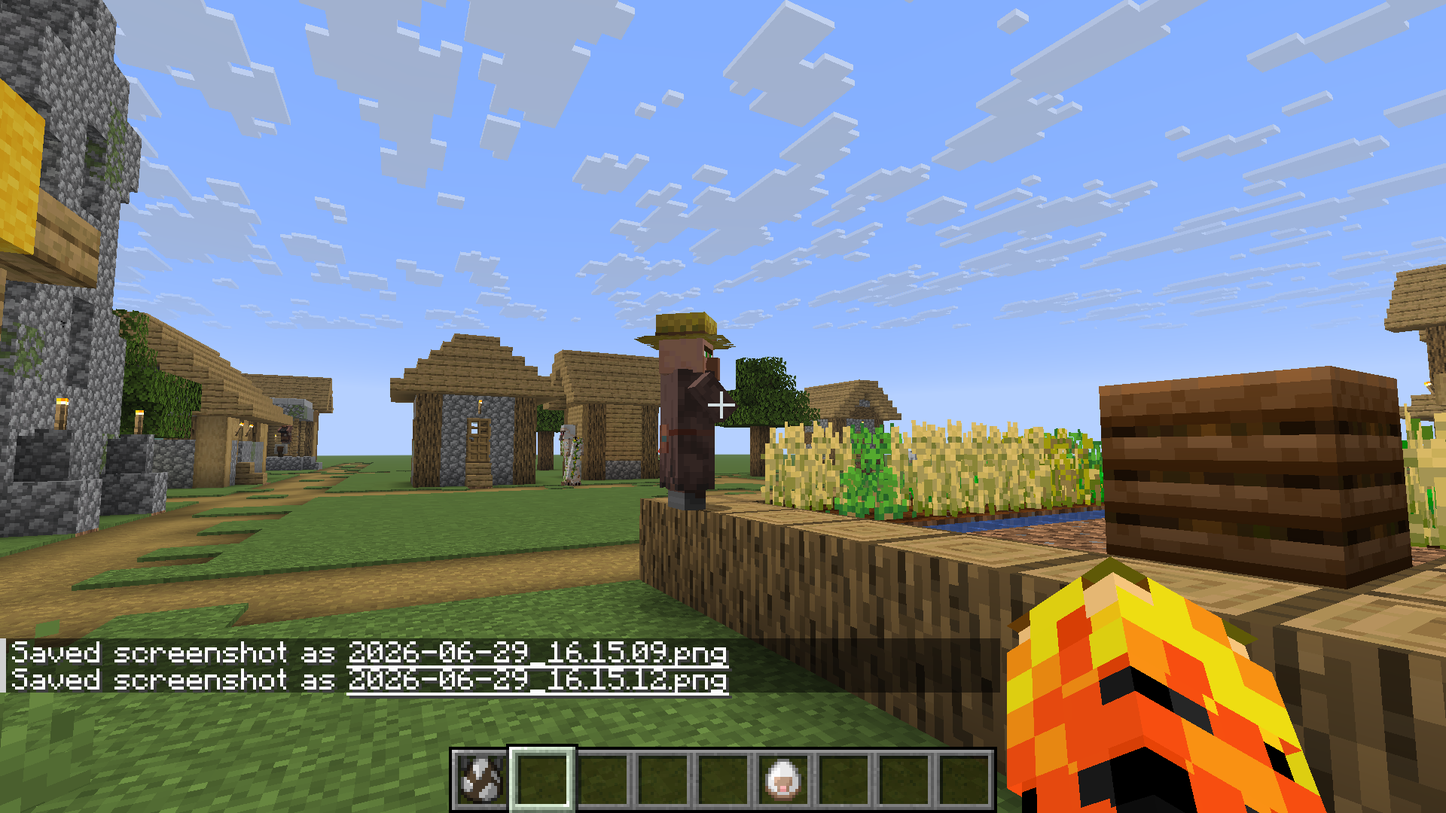Torch: (128, 404, 149, 436), (54, 393, 71, 429), (474, 392, 489, 419)
cablestone: (6, 17, 110, 92), (12, 482, 88, 532), (53, 118, 87, 205), (441, 413, 462, 482)
villager: (645, 307, 739, 514)
wood: (777, 506, 1065, 720)
